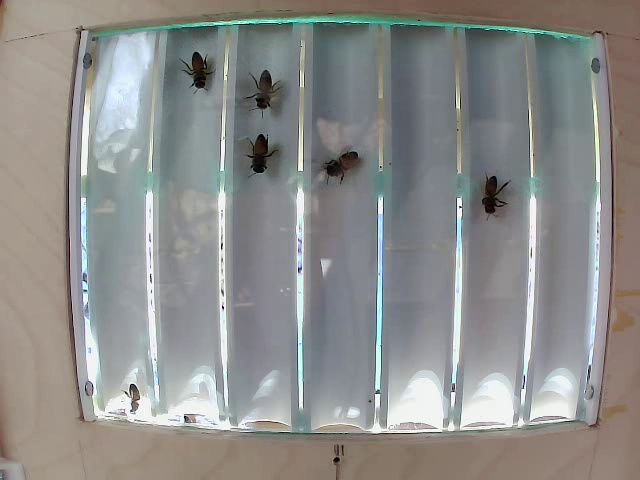bee: (467, 168, 520, 226), (237, 127, 280, 176), (316, 138, 354, 184), (244, 67, 293, 102), (175, 45, 212, 88)
